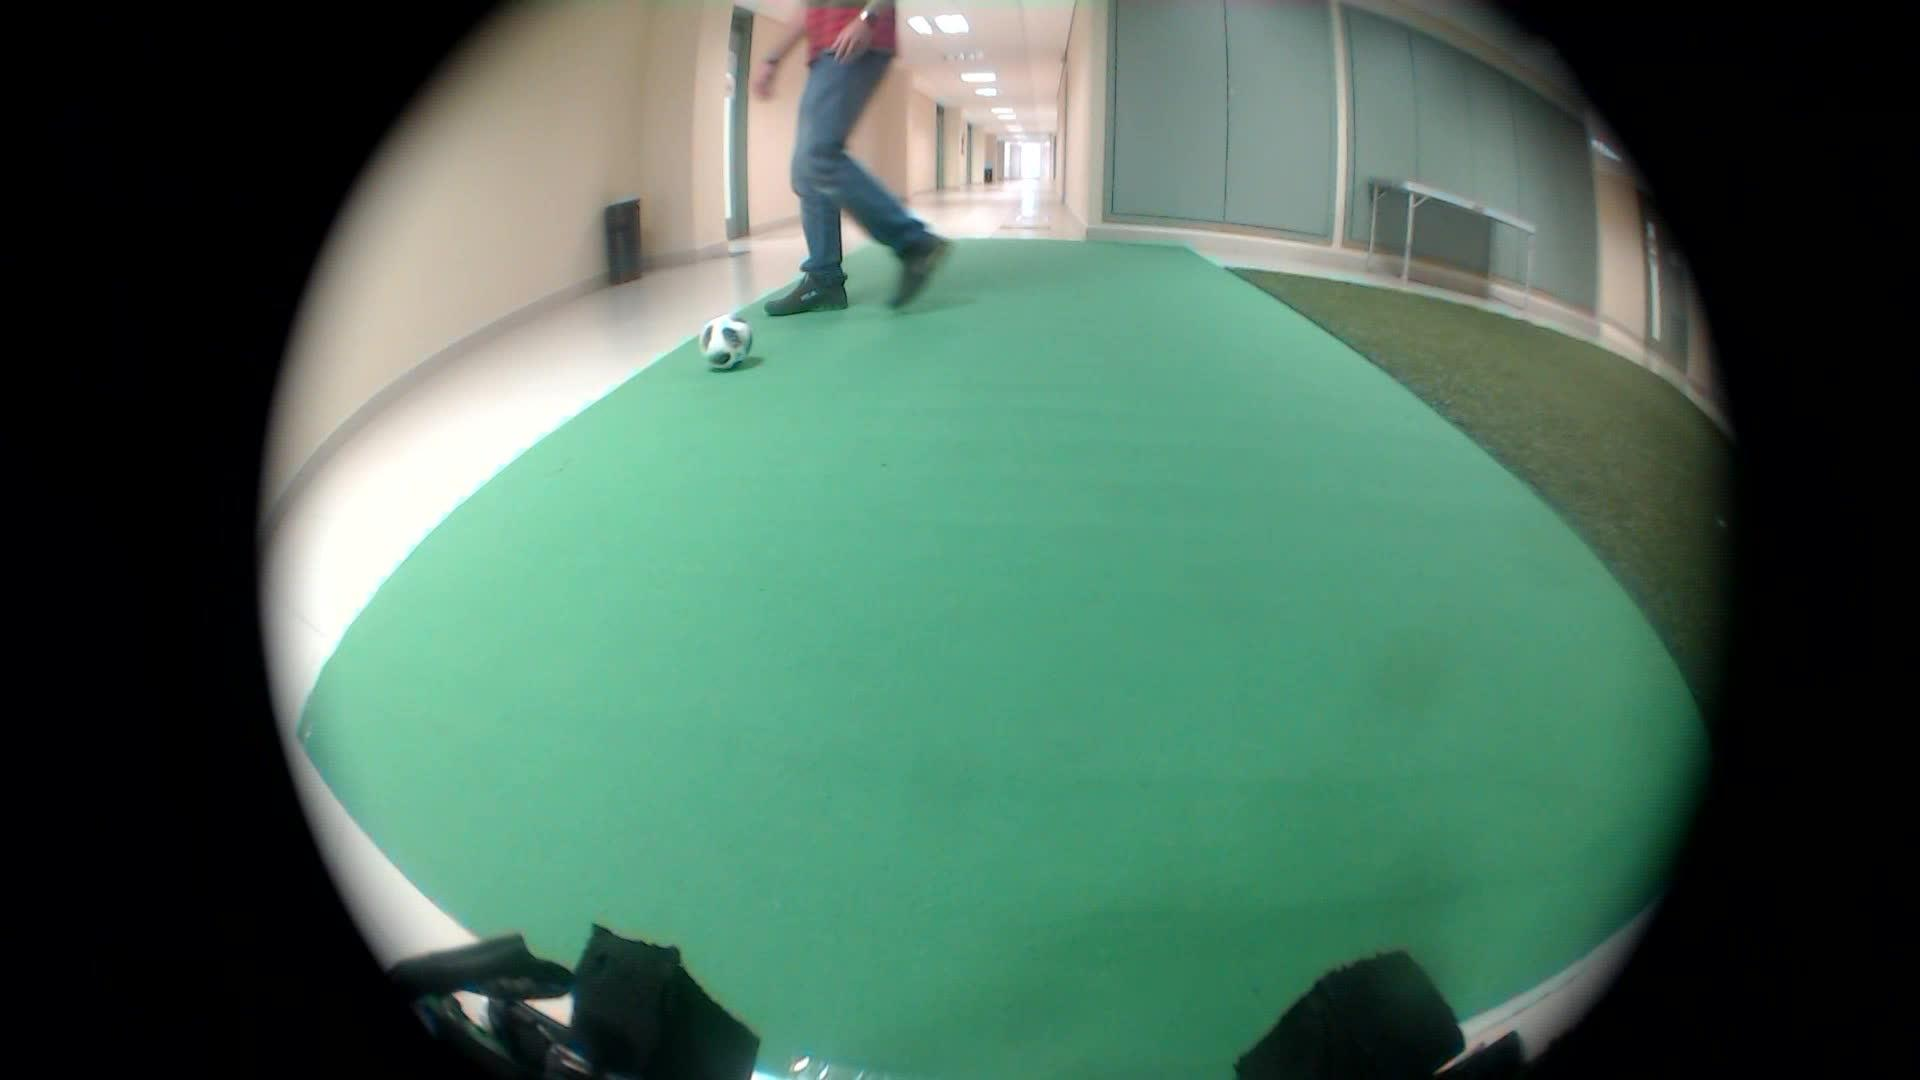ball: (694, 302, 762, 382)
